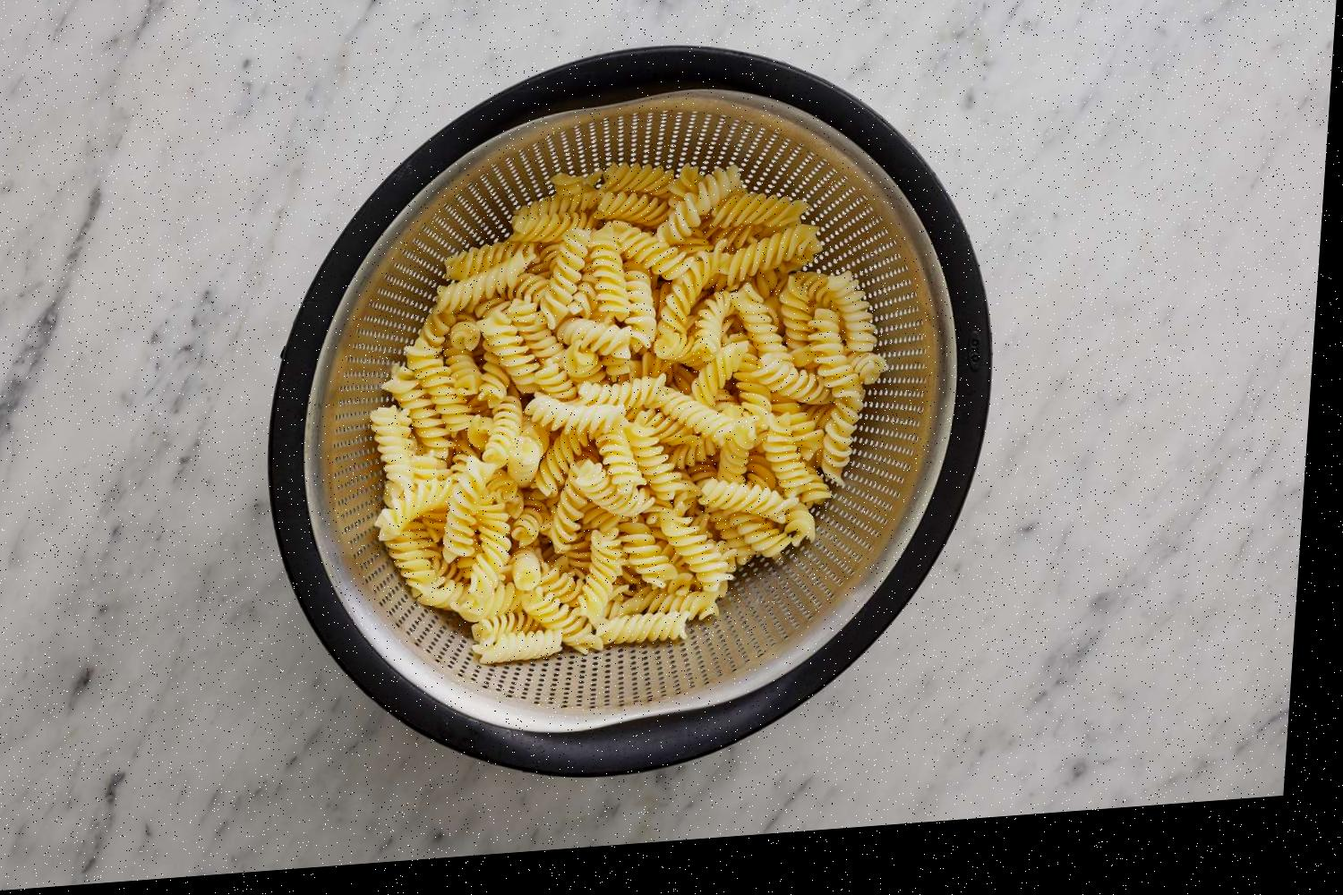pasta: (371, 164, 885, 662), (434, 250, 535, 313), (382, 365, 451, 455), (720, 225, 818, 286), (540, 227, 590, 327), (375, 478, 451, 540), (808, 308, 860, 395), (583, 226, 629, 321), (700, 479, 796, 522), (526, 395, 625, 435), (691, 340, 748, 405), (371, 406, 413, 493), (709, 192, 808, 228), (595, 610, 689, 644), (444, 242, 526, 280), (577, 375, 665, 410), (474, 629, 561, 663), (595, 191, 667, 226), (601, 164, 674, 195), (472, 611, 537, 643)
